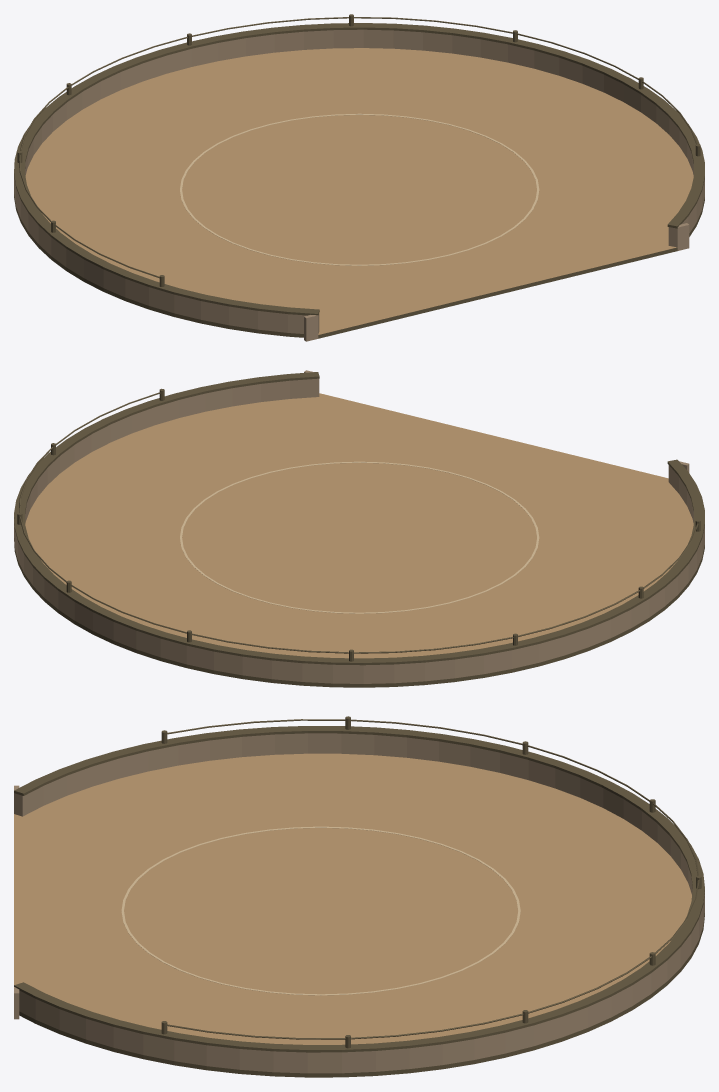
The model's file is ZO_Arena.glb.
3 views of the same model, one above another, from view 1: azimuth 30°, elevation 25°; view 2: azimuth 150°, elevation 25°; view 3: azimuth 270°, elevation 25° (orthographic). The views are drawn at different scales.
Parts seen in each view (by area): view 1: ZO_Arena; view 2: ZO_Arena; view 3: ZO_Arena.
Part boxes in pixels (x1=…): ZO_Arena: x1=14, y1=14, x2=704, y2=341; ZO_Arena: x1=14, y1=370, x2=704, y2=687; ZO_Arena: x1=14, y1=716, x2=704, y2=1077.
Size of the model in its own units: 200 by 11.1 by 180.
1 material, 1 textured.
